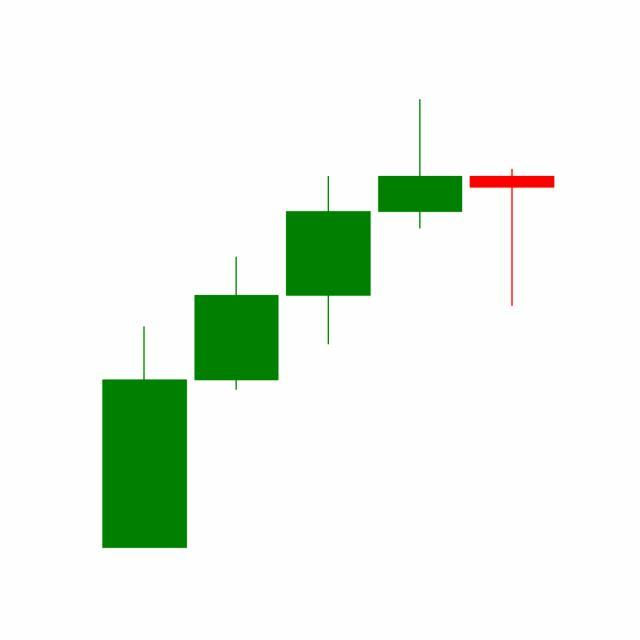Dragonfly Doji: (466, 168, 559, 309)
